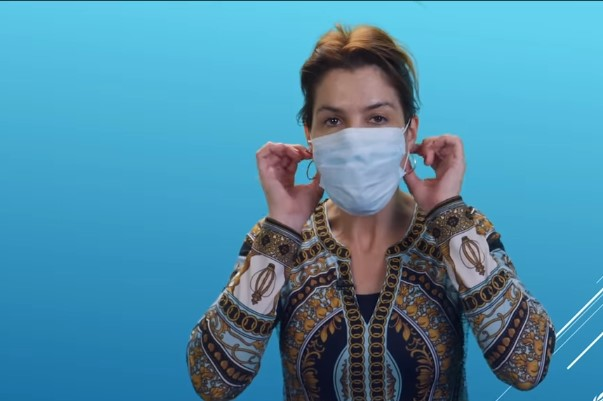face_with_mask: (302, 37, 416, 221)
